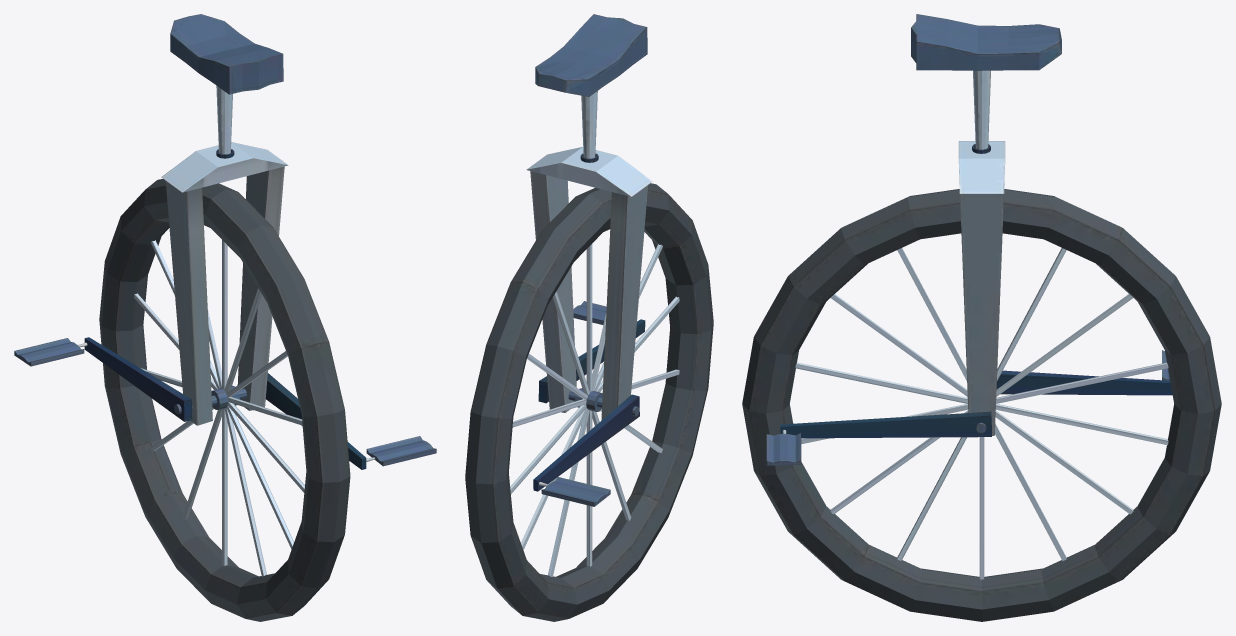
File: c4eT6ivB_Tm.glb
3 renders of one model, left to right at view 1: azimuth 30°, elevation 25°; view 2: azimuth 150°, elevation 25°; view 3: azimuth 270°, elevation 25°, orthographic. The views are drawn at different scales.
Parts seen in each view (by area): view 1: Node; view 2: Node; view 3: Node.
Boxes of the visible parts, <box> form: Node: <box>14,14,436,621</box>; Node: <box>465,14,713,621</box>; Node: <box>742,14,1221,621</box>.
Bounding box in the file's own units: 0.3979 × 1 × 0.7321.
Materials: 1 (1 with a texture image).
